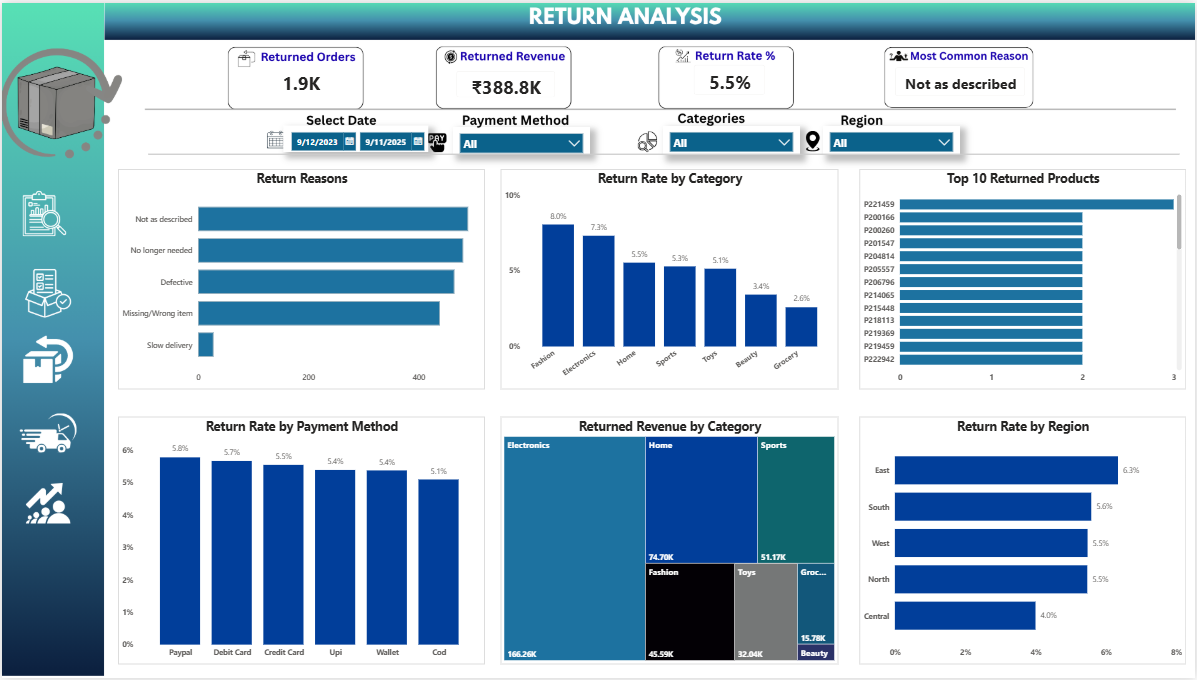

What the dashboard file says about the page in this screenshot:
{"tool":"powerbi","page":{"name":"Return Analysis","canvas":[1910,1080],"ordinal":1},"visuals":[{"type":"cardVisual","fields":{"Data":["Returns.Returned Orders"]},"box":[408,94,142,64],"z":0},{"type":"cardVisual","fields":{"Data":["Returns.Returned Revenue"]},"box":[722,104,168,52],"z":1000},{"type":"cardVisual","fields":{"Data":["Returns.Return Rate"]},"box":[1102,94,124,58],"z":2000},{"type":"cardVisual","fields":{"Data":["Returns.Most Common Reason"]},"box":[1424,98,218,56],"z":3000},{"type":"slicer","fields":{"Values":["Date_Table.Date"]},"box":[450,196,232,42],"z":4000},{"type":"slicer","fields":{"Values":["orders.payment_method"]},"box":[722,198,218,44],"z":5000},{"type":"slicer","fields":{"Values":["products.category"]},"box":[1058,196,218,48],"z":6000},{"type":"slicer","fields":{"Values":["customers.region"]},"box":[1314,196,218,48],"z":7000},{"type":"clusteredBarChart","title":"Return Reasons","fields":{"Category":["Returns.return_reason"],"Y":["Returns.Returned Orders"]},"box":[186,266,586,352],"z":8000},{"type":"shape","box":[234,230,1650,24],"z":9000},{"type":"clusteredColumnChart","title":"Return Rate by Category","fields":{"Y":["products.Category Return Rate"],"Category":["products.category"]},"box":[798,266,540,352],"z":10000},{"type":"clusteredBarChart","title":"Return Rate by Region","fields":{"Category":["customers.region"],"Y":["Returns.Return Rate"]},"box":[1372,662,522,396],"z":11000},{"type":"clusteredColumnChart","title":"Return Rate by Payment Method","fields":{"Y":["Returns.Return Rate"],"Category":["orders.payment_method"]},"box":[186,662,586,396],"z":12000},{"type":"clusteredBarChart","title":"Top 10 Returned Products","fields":{"Y":["Returns.Returned Orders"],"Category":["orders.product_id"]},"box":[1372,266,522,352],"z":13000},{"type":"treemap","title":"Returned Revenue by Category","fields":{"Values":["Returns.Returned Revenue"],"Group":["products.category"]},"box":[798,662,540,396],"z":14000}]}

Visuals, with their boxes in screenshot pixels (x1, y1, x2, y2), scaled from the page's 1910x1080 canvas onto the 1197x680 screenshot:
cardVisual - Returns.Returned Orders: x1=256, y1=59, x2=345, y2=99
cardVisual - Returns.Returned Revenue: x1=452, y1=65, x2=558, y2=98
cardVisual - Returns.Return Rate: x1=691, y1=59, x2=768, y2=96
cardVisual - Returns.Most Common Reason: x1=892, y1=62, x2=1029, y2=97
slicer - Date_Table.Date: x1=282, y1=123, x2=427, y2=150
slicer - orders.payment_method: x1=452, y1=125, x2=589, y2=152
slicer - products.category: x1=663, y1=123, x2=800, y2=154
slicer - customers.region: x1=823, y1=123, x2=960, y2=154
"Return Reasons" clusteredBarChart: x1=117, y1=167, x2=484, y2=389
shape: x1=147, y1=145, x2=1181, y2=160
"Return Rate by Category" clusteredColumnChart: x1=500, y1=167, x2=839, y2=389
"Return Rate by Region" clusteredBarChart: x1=860, y1=417, x2=1187, y2=666
"Return Rate by Payment Method" clusteredColumnChart: x1=117, y1=417, x2=484, y2=666
"Top 10 Returned Products" clusteredBarChart: x1=860, y1=167, x2=1187, y2=389
"Returned Revenue by Category" treemap: x1=500, y1=417, x2=839, y2=666
